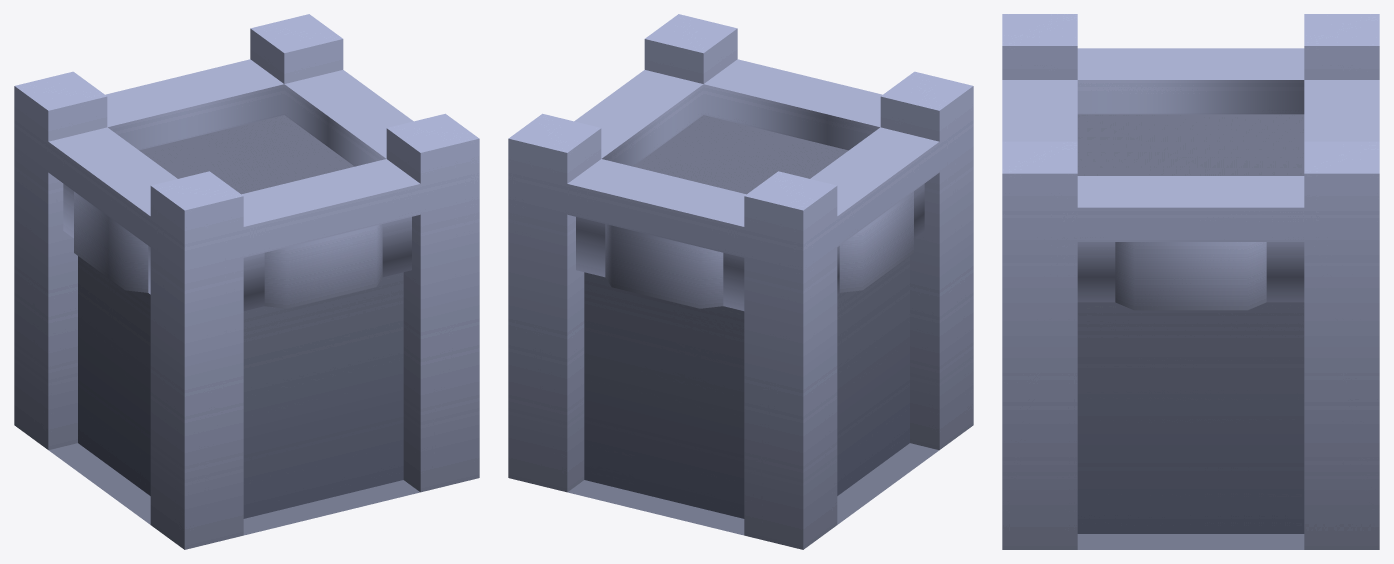
Rendered from wall_1.glb.
The picture shows the model from 3 angles, left to right: view 1: azimuth 30°, elevation 25°; view 2: azimuth 150°, elevation 25°; view 3: azimuth 270°, elevation 25°; orthographic projection. The views are drawn at different scales.
Parts seen in each view (by area): view 1: wall; view 2: wall; view 3: wall.
Part boxes in pixels (box(x1,y1,x2,y2)): wall: box(14, 14, 479, 549); wall: box(508, 14, 973, 549); wall: box(1002, 14, 1379, 549).
Size of the model in its own units: 1 by 1.1 by 1.
1 material, 1 textured.
